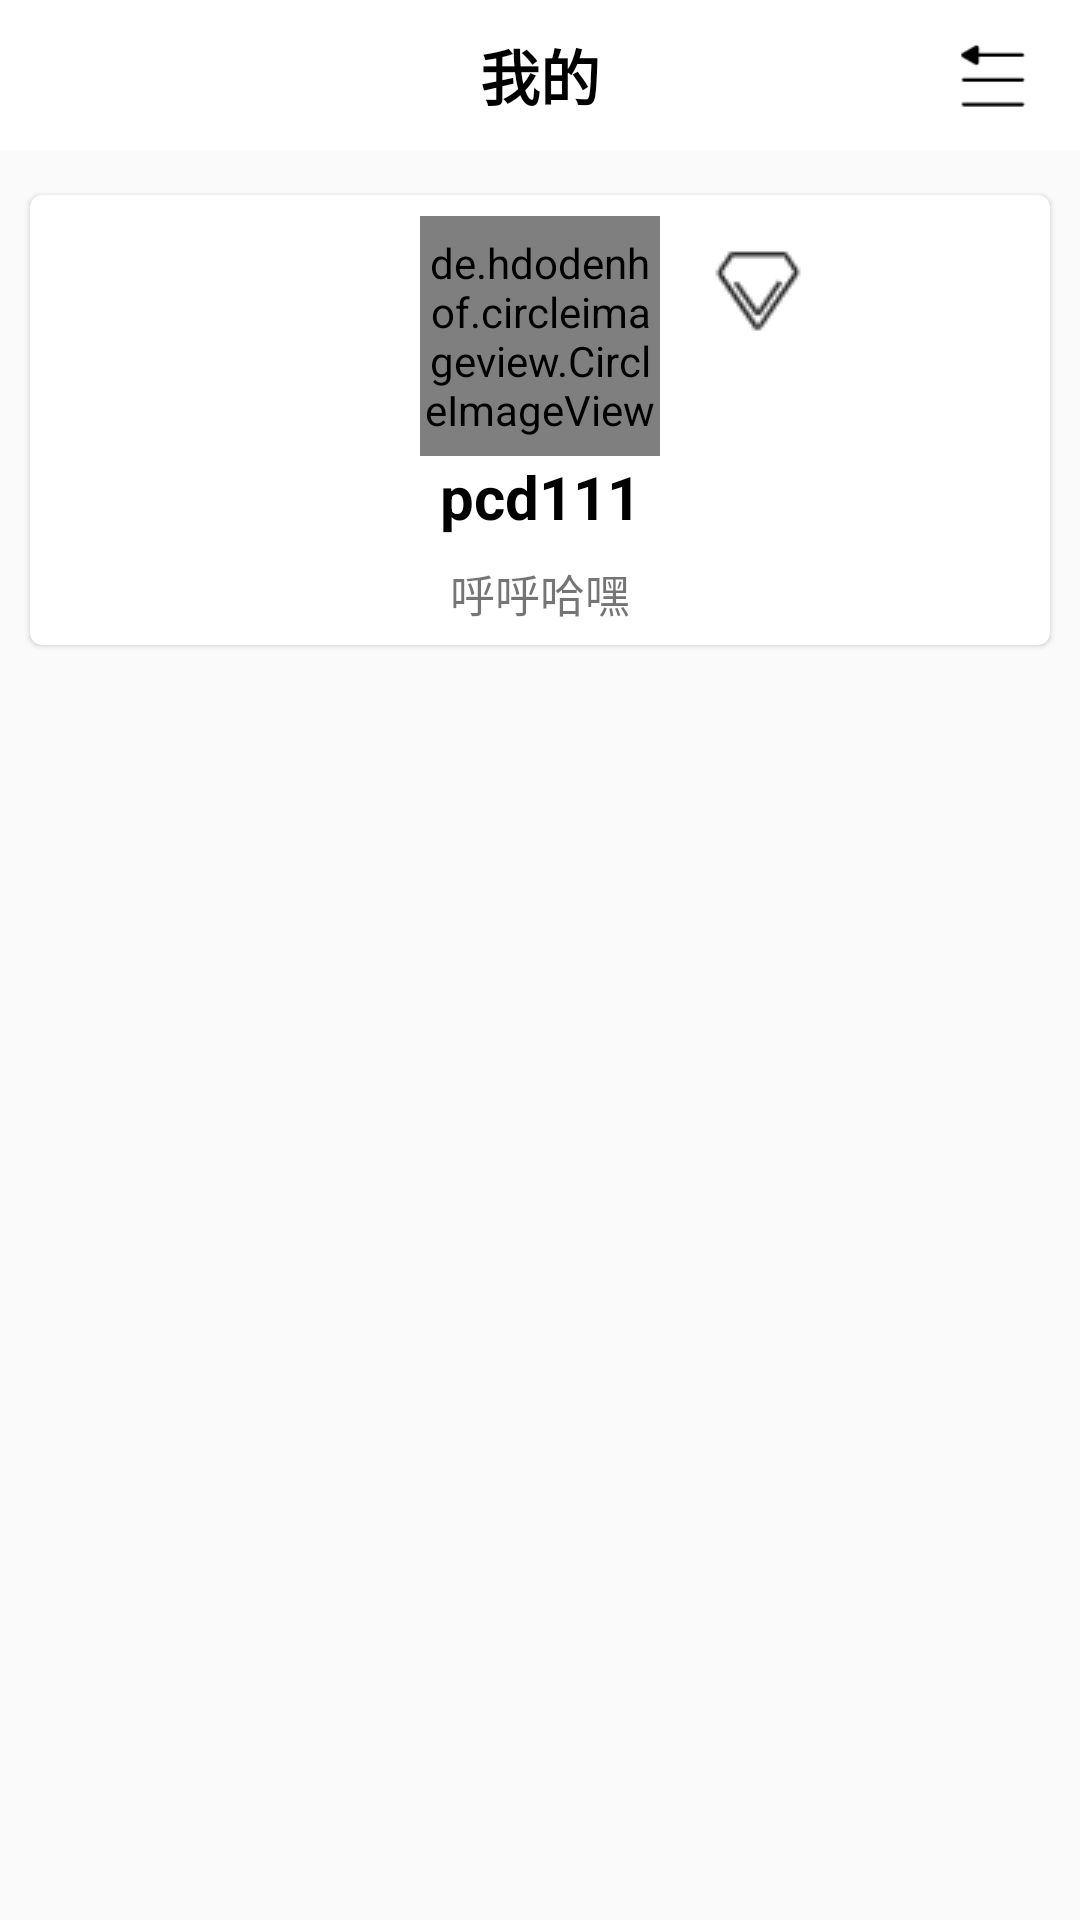

Screen size 1080w x 1920h. Icon name, then its center in pixels as (x=x, y=y):
menu: (x=993, y=75)
vip: (x=758, y=291)
